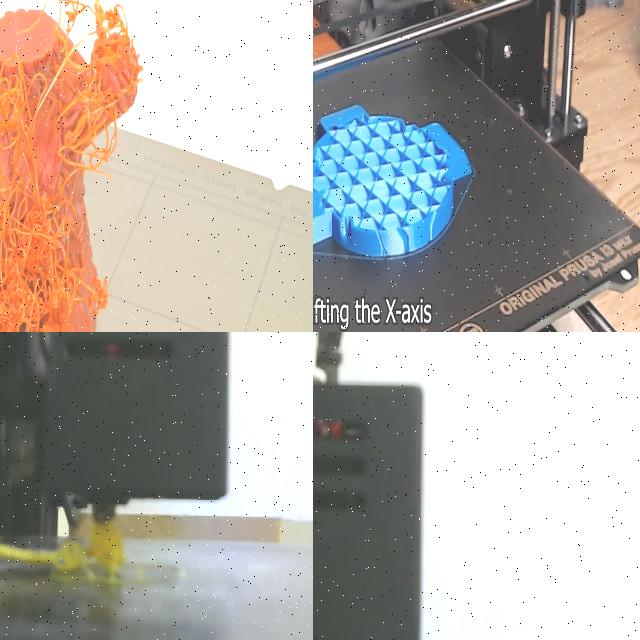spaghetti: (0, 519, 125, 583)
